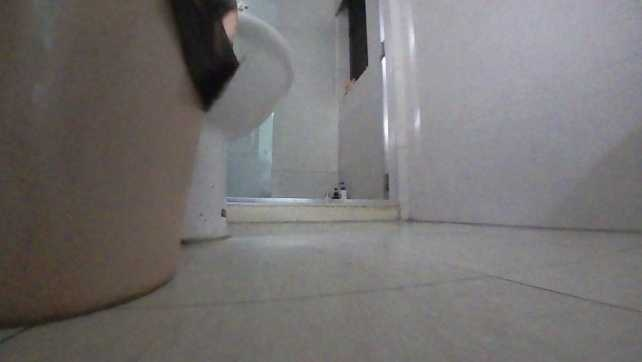door_sill: (227, 192, 401, 223)
toilet: (179, 6, 295, 243)
trash_can: (0, 0, 240, 332)
